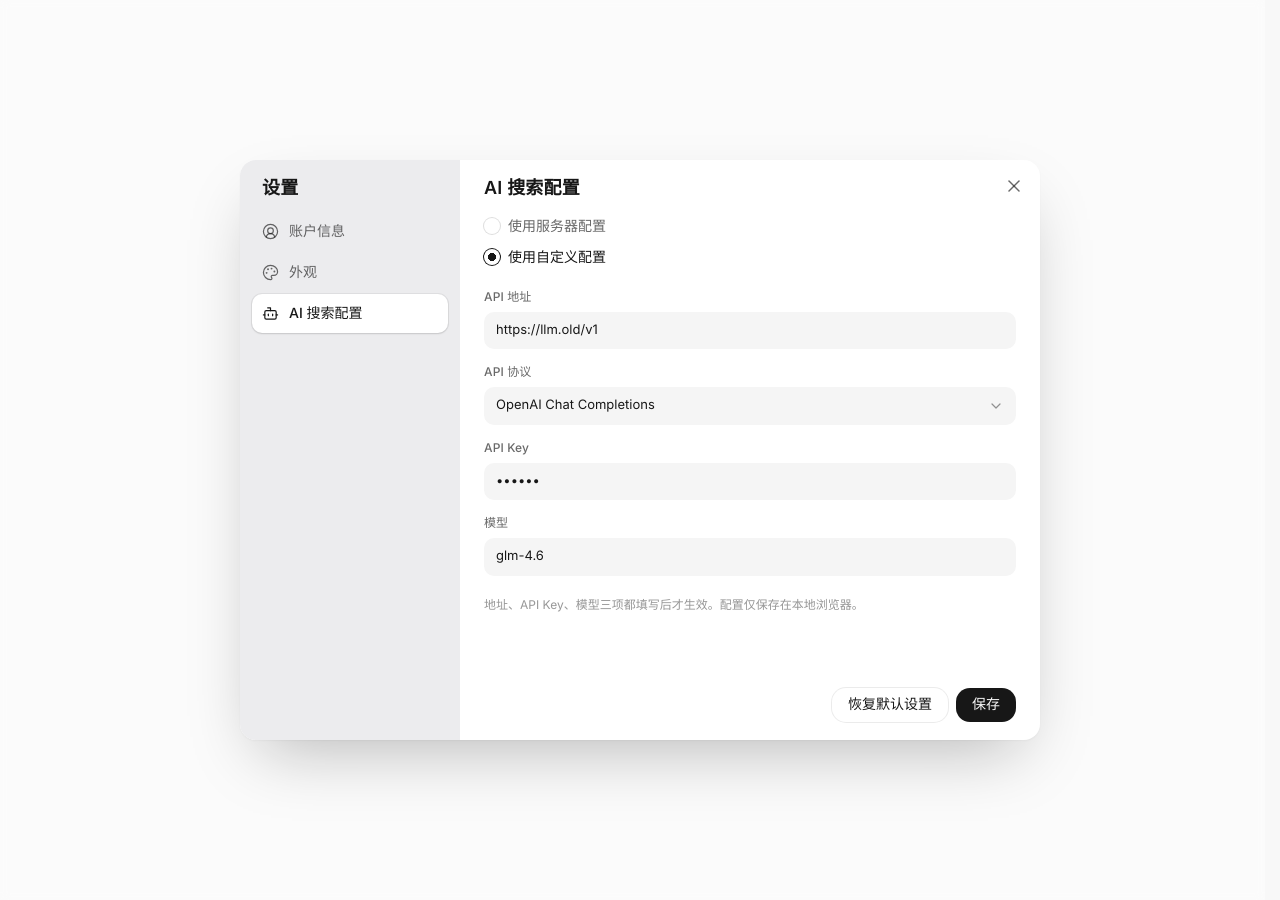
Test: SettingsModal AI 搜索配置：配置来源与字段 › 「恢复默认设置」回到服务器配置并清掉本地配置
This screenshot has width=1280, height=900.
Click the button "恢复默认设置" at x=890, y=705, box [832,688,948,722]
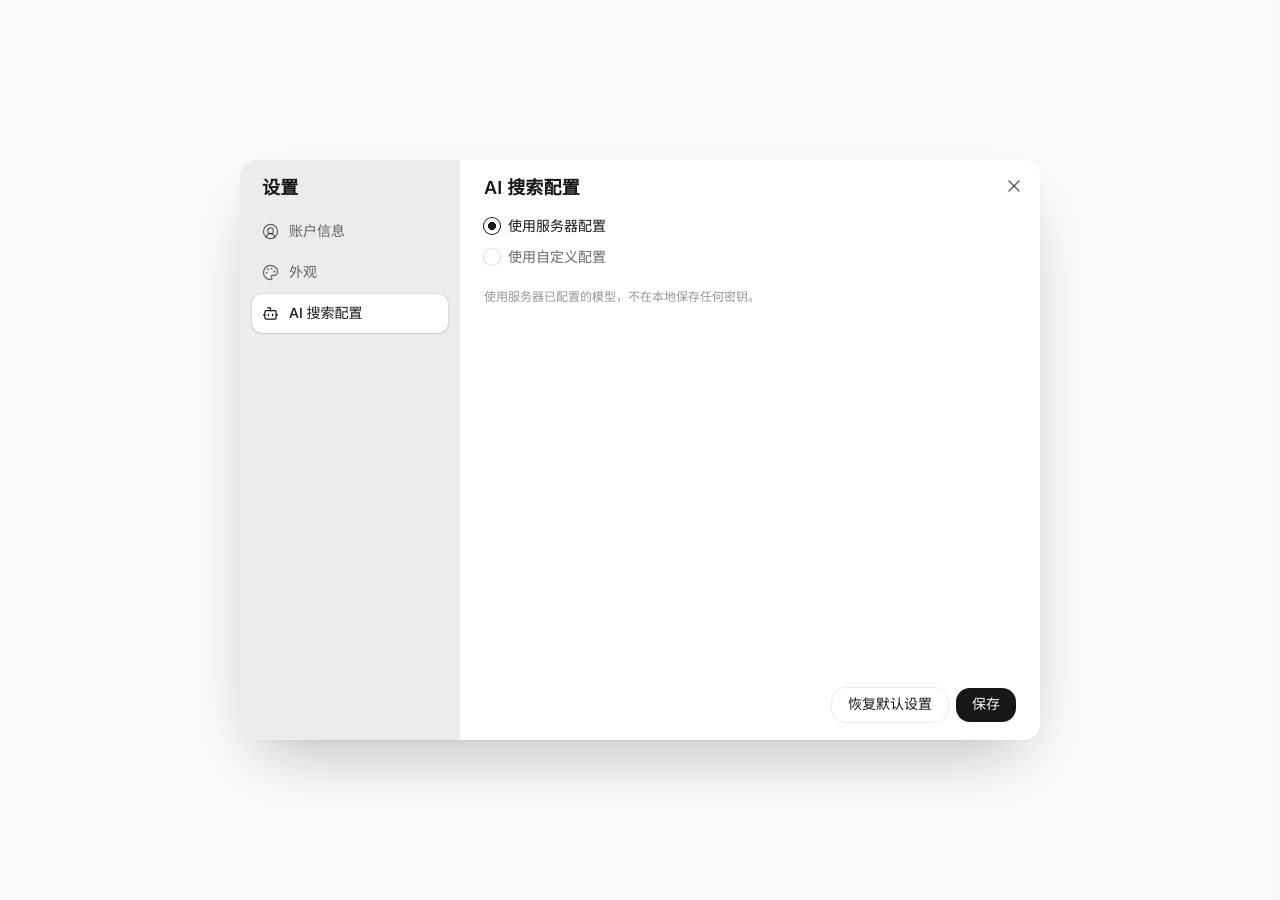
Now the radio button labelled "使用服务器配置" is checked, box [484,218,500,234]
Now the text labelled "API Key" is gone
